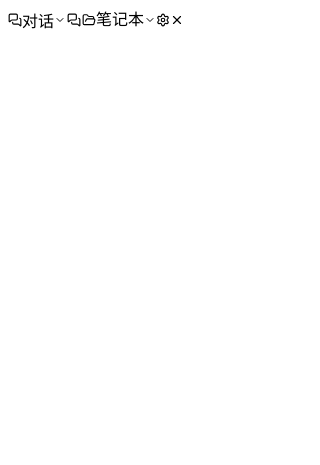
interview onboarding panel › advances from the resume step without requiring a resume
Click the button "对话" at (37, 20), box top-left (8, 8), bottom-right (66, 32)
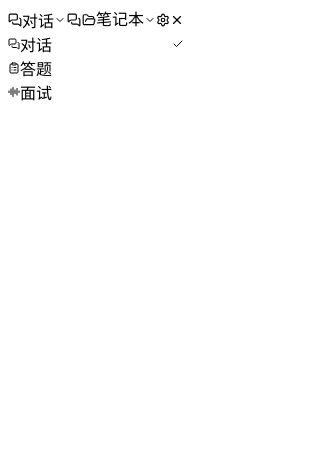
Click the menu item "面试" at (96, 92), box top-left (8, 80), bottom-right (184, 104)
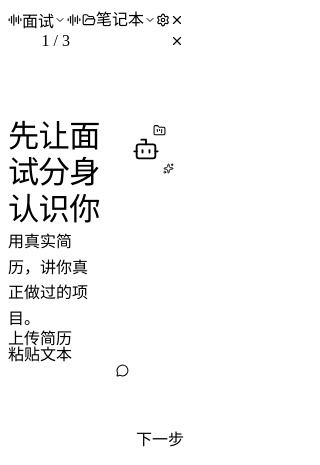
Click the button "下一步" at (160, 440), box top-left (136, 432), bottom-right (184, 448)
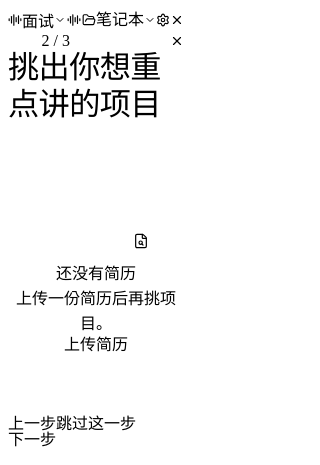
Expected: the heading "挑出你想重点讲的项目" is shown, top-left (8, 50), bottom-right (184, 124)
Expected: the button "上一步" is shown, top-left (8, 416), bottom-right (56, 432)
